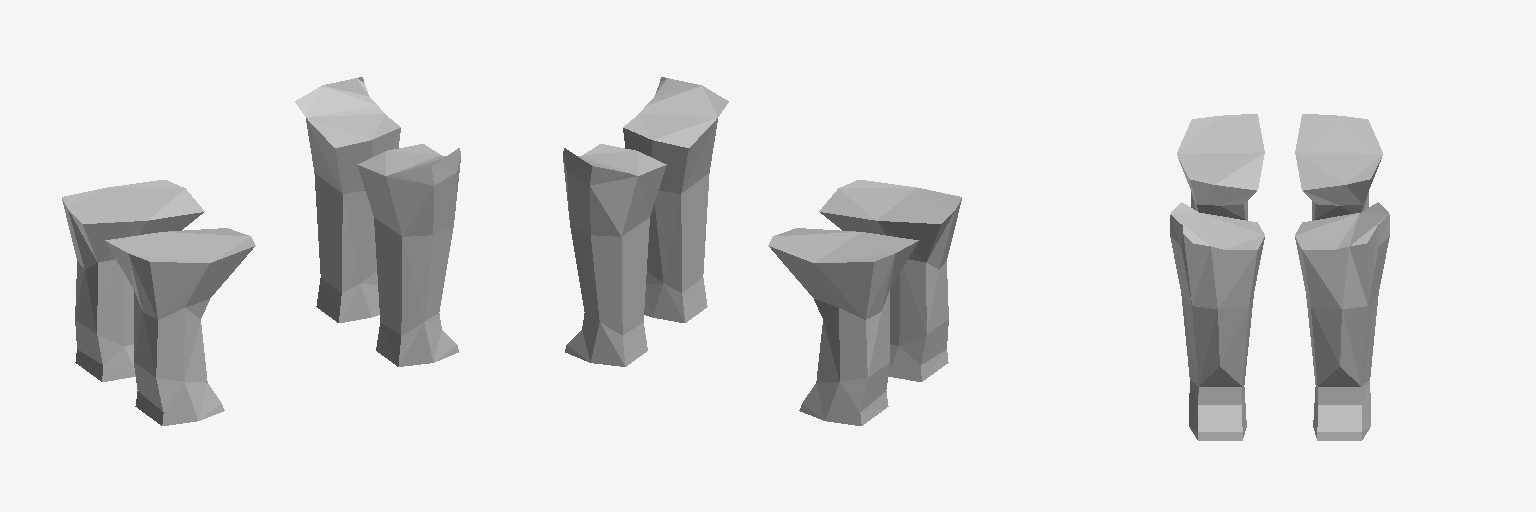
The model's file is elephant_legs.obj.
3 renders of one model, left to right at view 1: azimuth 30°, elevation 25°; view 2: azimuth 150°, elevation 25°; view 3: azimuth 270°, elevation 25°, orthographic.
Visible parts, largest first — view 1: Plane.002; view 2: Plane.002; view 3: Plane.002.
Boxes of the visible parts, box(x1,y1,x2,y2) form: Plane.002: box(62, 77, 460, 425); Plane.002: box(563, 77, 961, 425); Plane.002: box(1170, 114, 1389, 440).
Bounding box in the file's own units: 2.19 × 1.36 × 1.28.